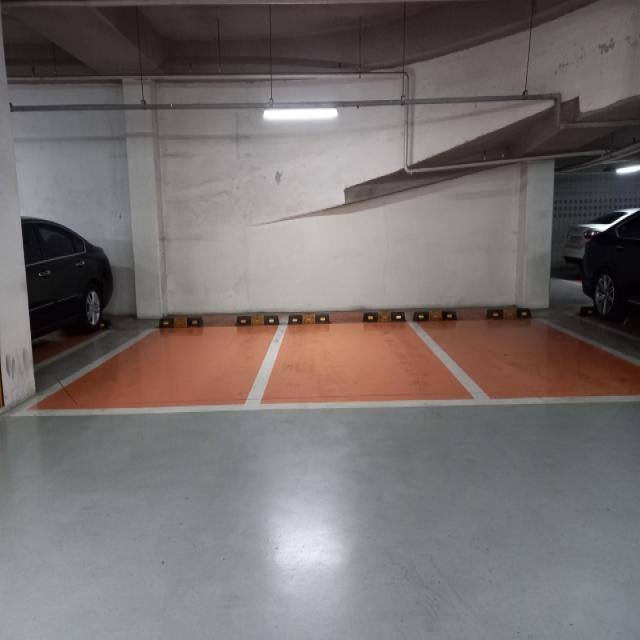empty: (13, 323, 285, 417), (407, 312, 640, 408), (249, 317, 481, 399)
